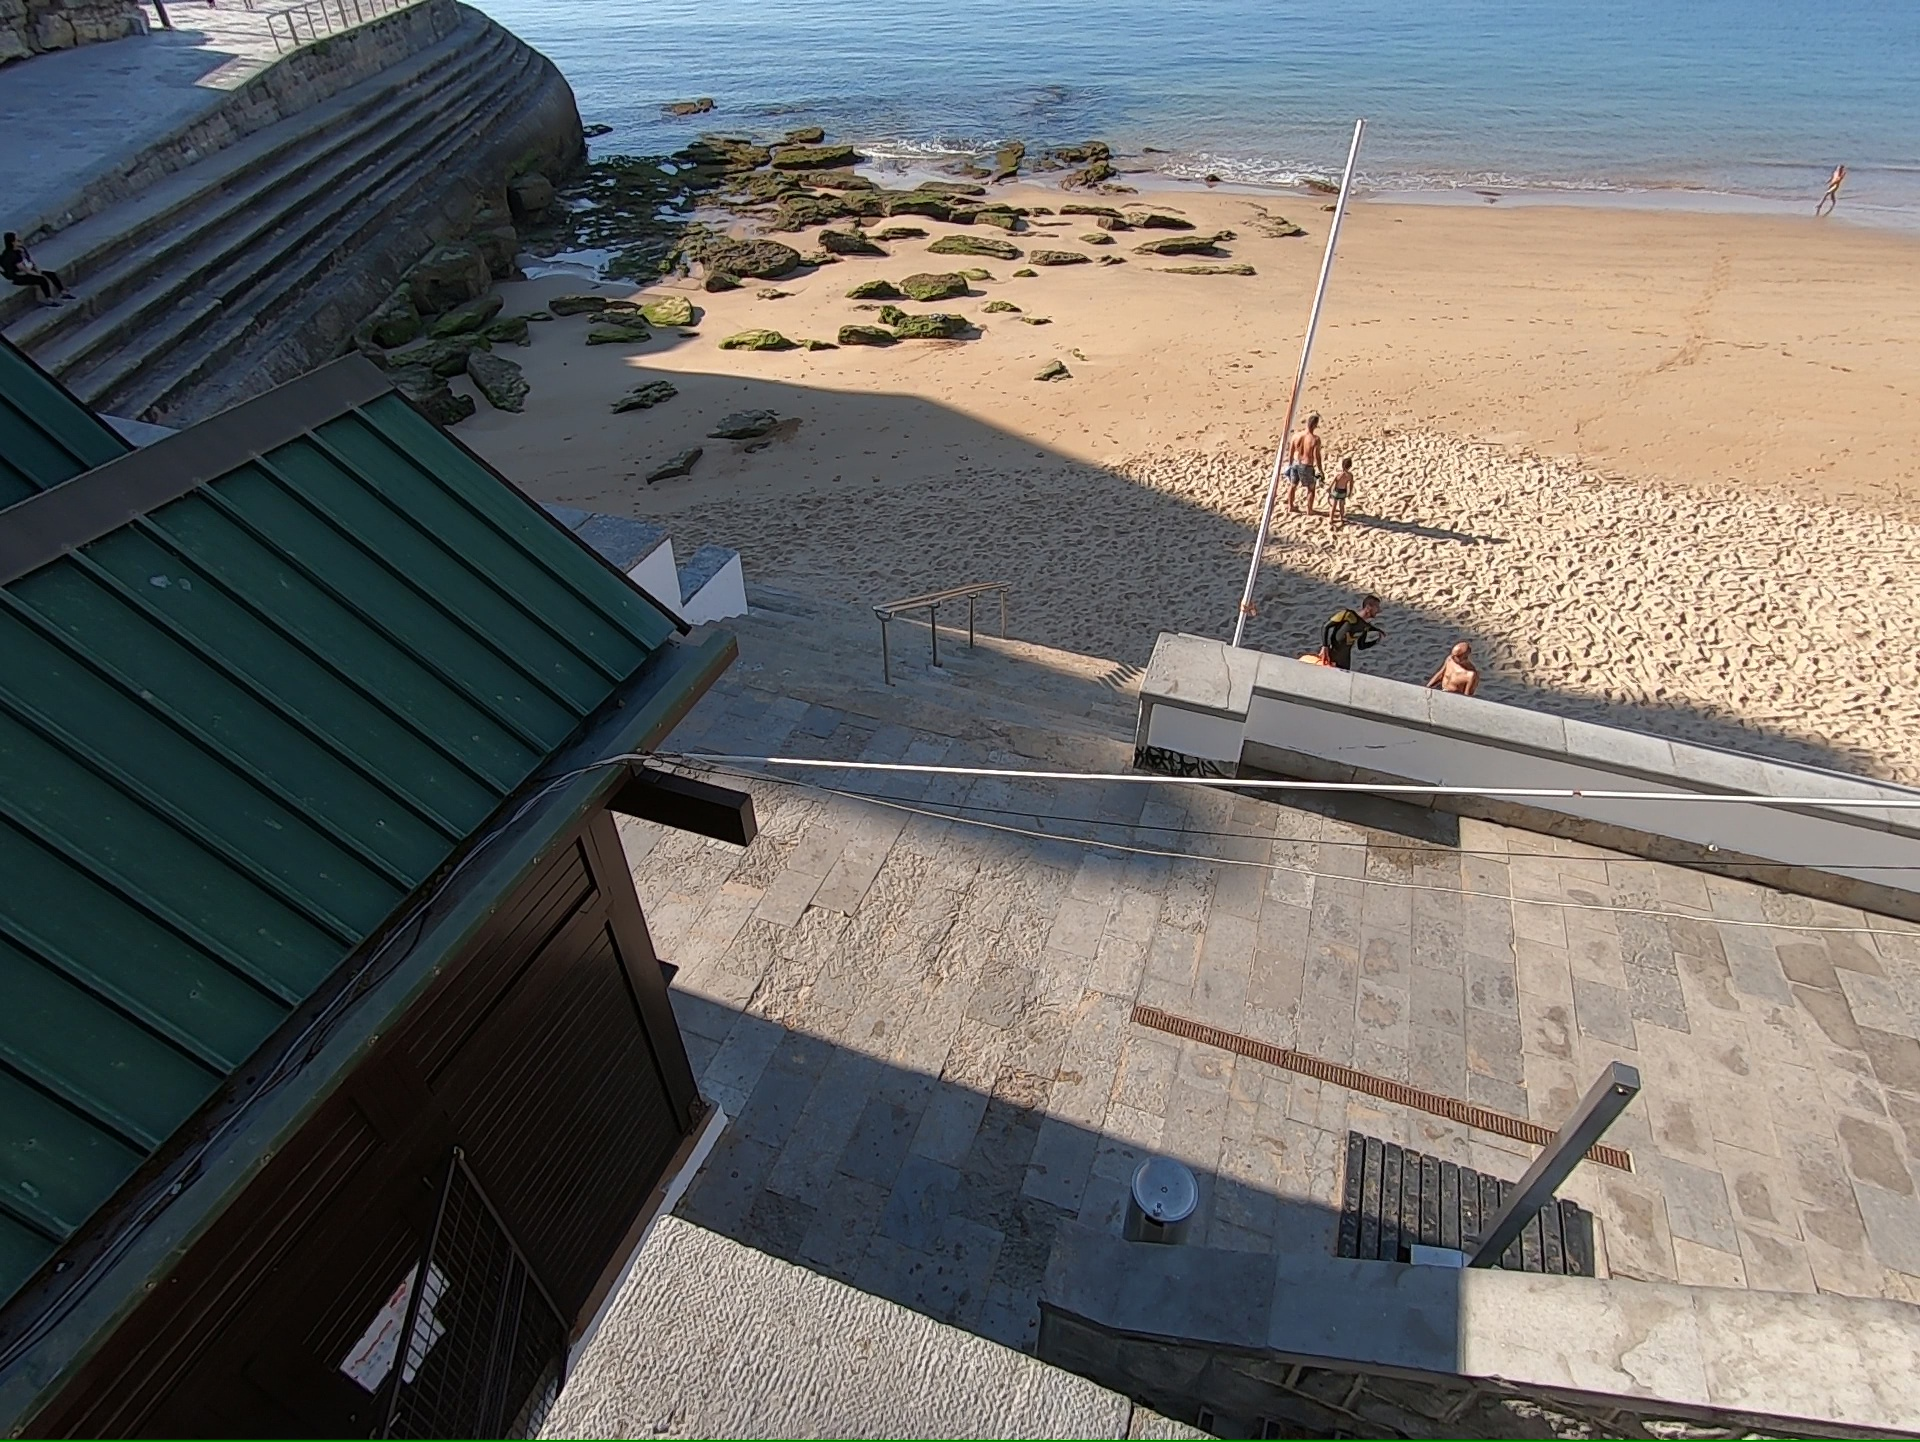person: (1321, 590, 1389, 670), (1288, 414, 1323, 515), (1430, 638, 1478, 691), (1814, 162, 1847, 217), (1328, 458, 1354, 520)
